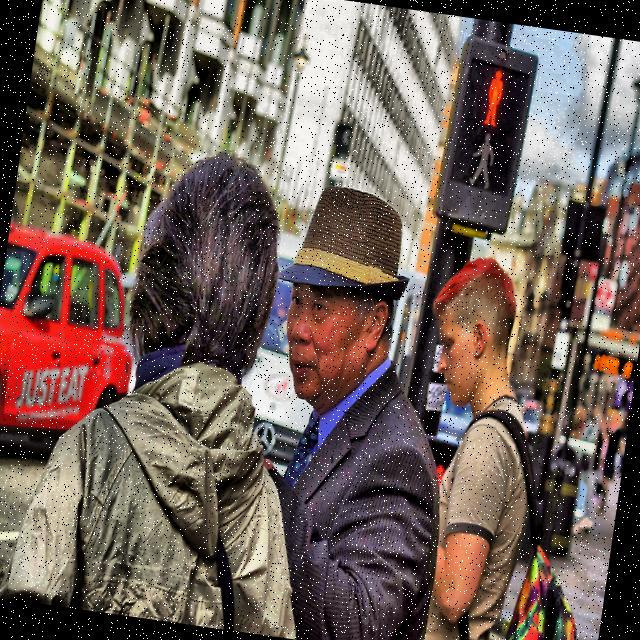red_light: (478, 63, 508, 131)
